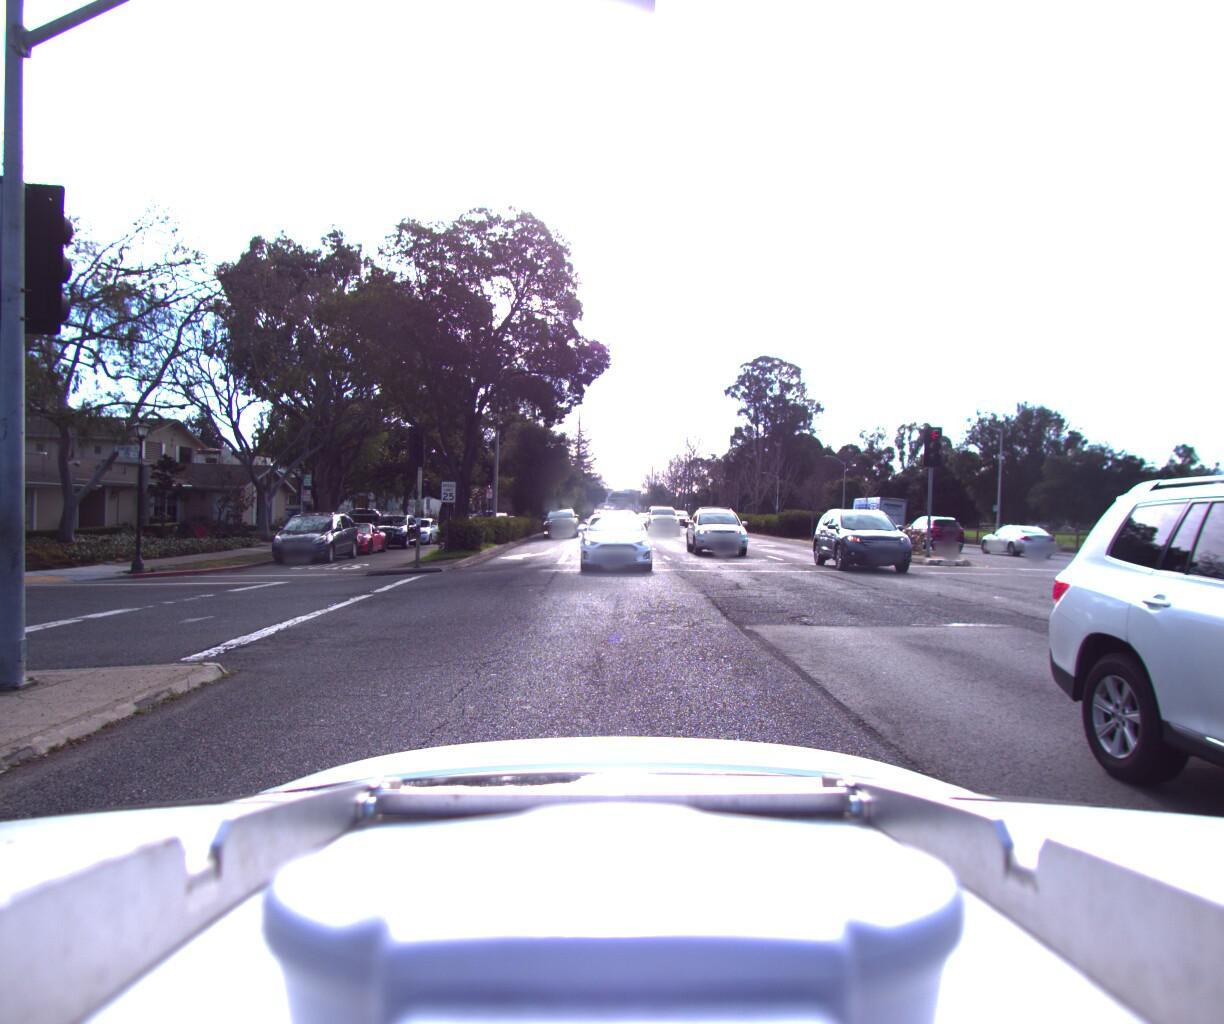car: (818, 497, 947, 580), (260, 504, 367, 565), (571, 506, 656, 577), (1084, 520, 1188, 565), (685, 499, 762, 558), (317, 515, 393, 556), (968, 519, 1046, 556), (881, 511, 952, 547), (363, 508, 424, 548), (394, 513, 443, 545), (645, 502, 684, 537), (541, 505, 579, 538)
truck: (837, 487, 908, 542)
